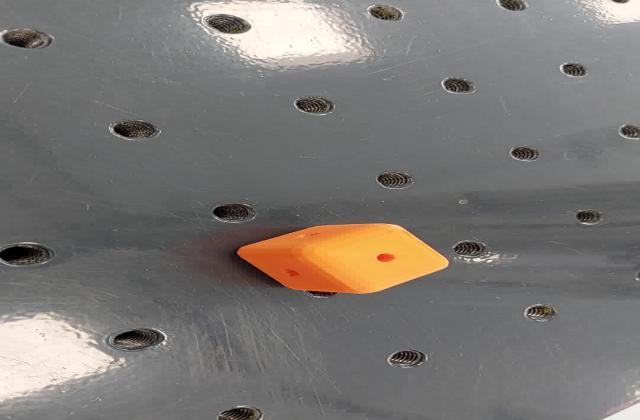cube: (222, 220, 467, 297)
